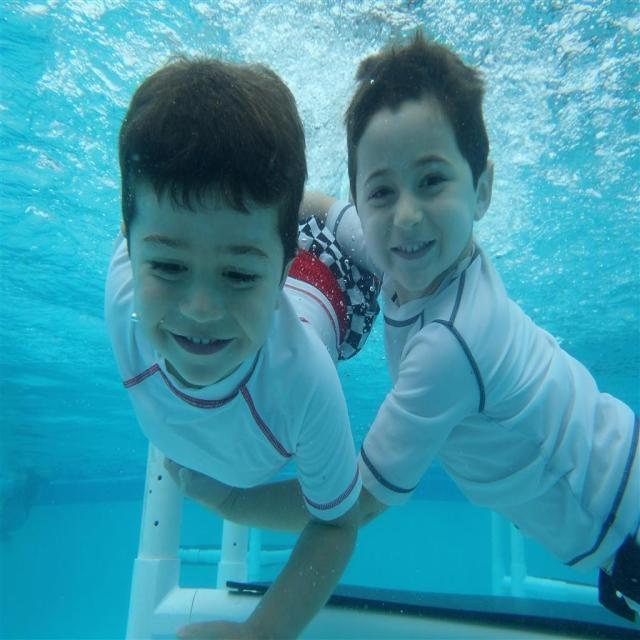Face: (116, 176, 288, 397), (339, 110, 493, 286)
